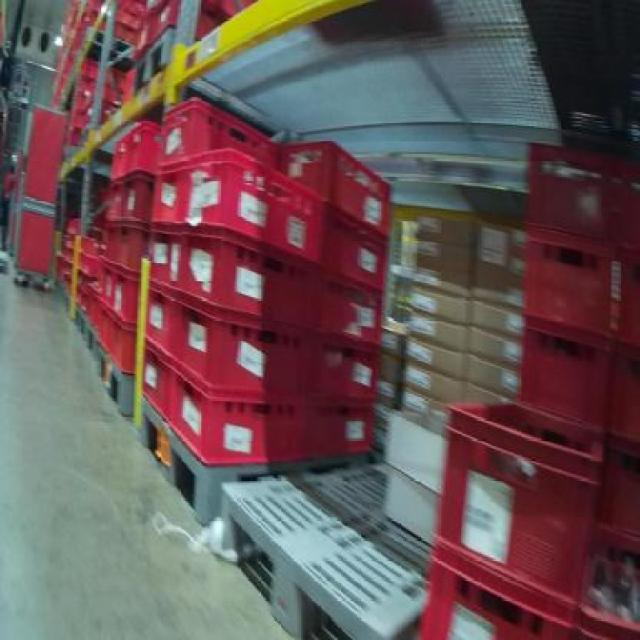pallet: (209, 452, 434, 638), (128, 392, 219, 537), (88, 338, 139, 431), (130, 24, 176, 96)
